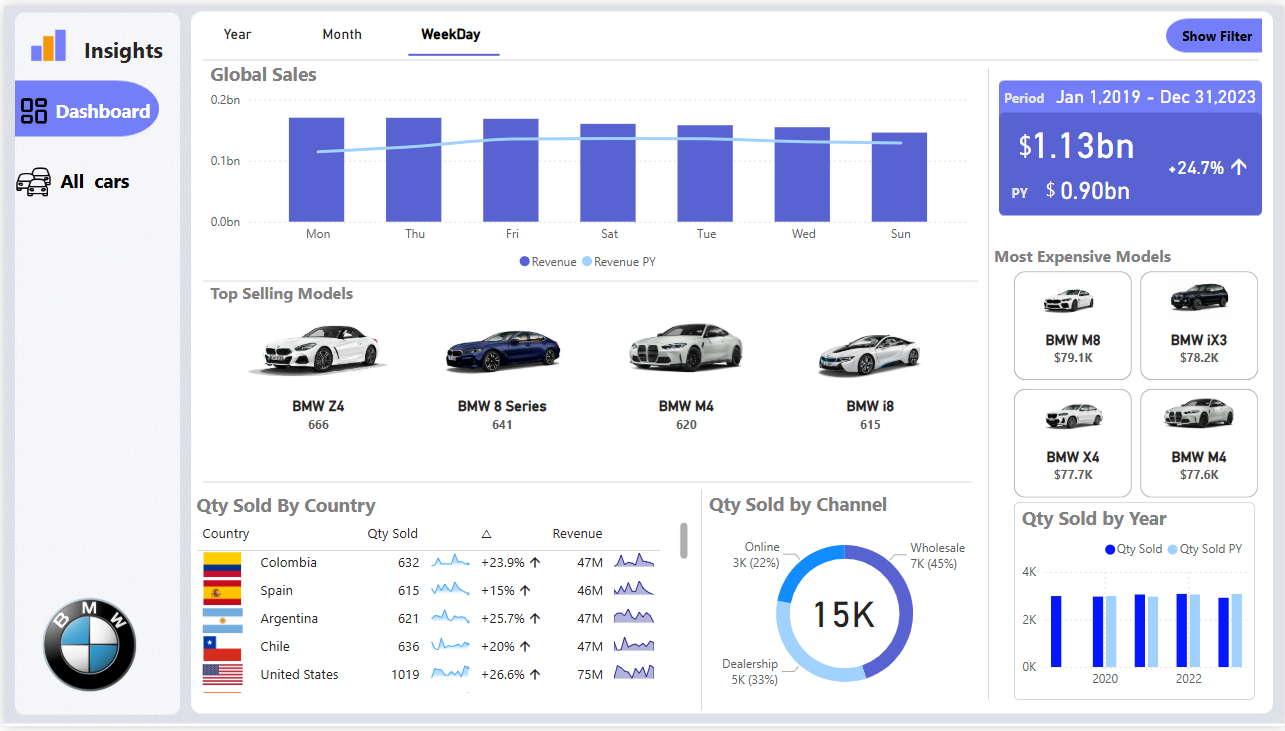

This screenshot's page, from the dashboard's own definition file:
{"tool":"powerbi","page":{"name":"BMW Dashboard","canvas":[1280,720],"ordinal":0},"visuals":[{"type":"advancedSlicerVisual","fields":{"Values":["PeriodSlicer.PeriodSlicer"]},"box":[201.1,0,300.8,55.2],"z":0},{"type":"textbox","box":[75.3,23.8,98.3,40],"z":0,"group":"g2"},{"type":"image","box":[10.3,13.8,68.3,48.3],"z":1000,"group":"g2"},{"type":"lineClusteredColumnComboChart","title":" Global Sales","fields":{"Category":["Calendar.Year"],"Y":["All Measures.Revenue"],"Y2":["All Measures.Revenue PY"]},"box":[201.1,55.2,768.9,218.9],"z":1000},{"type":"card","fields":{"Values":["All Measures.Revenue"]},"box":[1007.5,110,142.5,52.5],"z":2000,"group":"g3"},{"type":"card","fields":{"Values":["All Measures.Revenue PY"]},"box":[1030,156.2,122.5,55],"z":3000,"group":"g4"},{"type":"textbox","box":[1002,172.6,53.4,39.2],"z":4000,"group":"g4"},{"type":"card","fields":{"Values":["All Measures.Revenue Variance % Arrow"]},"box":[1135,135.4,133,55.1],"z":5000},{"type":"card","fields":{"Values":["All Measures.Selected Period"]},"box":[1037.6,64.1,229.6,55.2],"z":6000},{"type":"textbox","box":[994.9,77,60.5,44.5],"z":7000},{"type":"advancedSlicerVisual","title":"Top Selling Models","fields":{"Values":["dimModel.Model"]},"box":[201.3,274.5,780.2,202.5],"z":8000},{"type":"advancedSlicerVisual","title":"Most Expensive Models","fields":{"Values":["dimModel.Model"]},"box":[985.2,238.5,294.8,257.7],"z":9000},{"type":"clusteredColumnChart","title":"Qty Sold by Year","fields":{"Y":["All Measures.Qty Sold","All Measures.Qty Sold PY"],"Category":["Calendar.Year"]},"box":[1010.3,496.2,240.9,197.8],"z":10000},{"type":"donutChart","fields":{"Y":["All Measures.Qty Sold"],"Category":["dimChannel.Channel"]},"box":[699.9,485.4,281.6,220.5],"z":11000},{"type":"card","fields":{"Values":["All Measures.Qty Sold"]},"box":[783.8,575.3,110.3,59.9],"z":12000},{"type":"tableEx","title":"Qty Sold By Country","fields":{"Values":["dimCountry.Flag","dimCountry.Country","All Measures.Qty Sold","All Measures.Qty Sold Sparkline","All Measures.Qty Sold Variance % Arrow","All Measures.Revenue","All Measures.Revenue Sparkline"]},"box":[187,486.6,501.7,206.1],"z":13000},{"type":"textbox","box":[45.7,87.1,115.7,35.7],"z":14000},{"type":"image","box":[10,82.9,40,44.3],"z":15000},{"type":"image","box":[7.1,147.1,44.3,57.1],"z":16000},{"type":"textbox","box":[51.4,157.1,121.4,44.3],"z":17000},{"type":"actionButton","box":[6.2,153.8,172.5,45],"z":18000},{"type":"group","id":"g1","title":"Filter Pane","box":[905.7,12.5,353.3,471.7],"z":19000},{"type":"image","box":[34,584.1,103.2,108.9],"z":20000},{"type":"actionButton","box":[1167.5,12.5,91.4,34.3],"z":20001,"group":"g1"},{"type":"group","id":"g2","title":"Group 1","box":[10.3,13.8,163.3,50],"z":20001},{"type":"textbox","box":[1008.7,115,50,46.2],"z":20002,"group":"g3"},{"type":"textbox","box":[1036.2,165,42.5,38.8],"z":20003,"group":"g4"},{"type":"group","id":"g3","title":"Group 2","box":[1007.5,110,142.5,52.5],"z":20004},{"type":"group","id":"g4","title":"Group 3","box":[1002,156.2,150.5,55.5],"z":20005}]}

Visuals, with their boxes on the page's 1280x720 design canvas (x1, y1, x2, y2). These are canvas units, not pixel positions in the 1285x731 screenshot, which may show the page scaled, cropped or inside an application window:
advancedSlicerVisual - PeriodSlicer.PeriodSlicer: (left=201, top=0, right=502, bottom=55)
textbox: (left=75, top=24, right=174, bottom=64)
image: (left=10, top=14, right=79, bottom=62)
" Global Sales" lineClusteredColumnComboChart: (left=201, top=55, right=970, bottom=274)
card - All Measures.Revenue: (left=1008, top=110, right=1150, bottom=162)
card - All Measures.Revenue PY: (left=1030, top=156, right=1152, bottom=211)
textbox: (left=1002, top=173, right=1055, bottom=212)
card - All Measures.Revenue Variance % Arrow: (left=1135, top=135, right=1268, bottom=190)
card - All Measures.Selected Period: (left=1038, top=64, right=1267, bottom=119)
textbox: (left=995, top=77, right=1055, bottom=122)
"Top Selling Models" advancedSlicerVisual: (left=201, top=274, right=982, bottom=477)
"Most Expensive Models" advancedSlicerVisual: (left=985, top=238, right=1280, bottom=496)
"Qty Sold by Year" clusteredColumnChart: (left=1010, top=496, right=1251, bottom=694)
donutChart - All Measures.Qty Sold x dimChannel.Channel: (left=700, top=485, right=982, bottom=706)
card - All Measures.Qty Sold: (left=784, top=575, right=894, bottom=635)
"Qty Sold By Country" tableEx: (left=187, top=487, right=689, bottom=693)
textbox: (left=46, top=87, right=161, bottom=123)
image: (left=10, top=83, right=50, bottom=127)
image: (left=7, top=147, right=51, bottom=204)
textbox: (left=51, top=157, right=173, bottom=201)
actionButton: (left=6, top=154, right=179, bottom=199)
"Filter Pane" group: (left=906, top=12, right=1259, bottom=484)
image: (left=34, top=584, right=137, bottom=693)
actionButton: (left=1168, top=12, right=1259, bottom=47)
"Group 1" group: (left=10, top=14, right=174, bottom=64)
textbox: (left=1009, top=115, right=1059, bottom=161)
textbox: (left=1036, top=165, right=1079, bottom=204)
"Group 2" group: (left=1008, top=110, right=1150, bottom=162)
"Group 3" group: (left=1002, top=156, right=1152, bottom=212)
